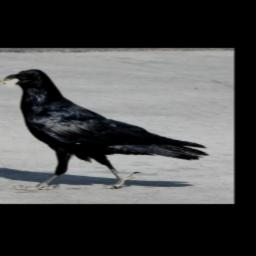Crow: (0, 69, 211, 191)
